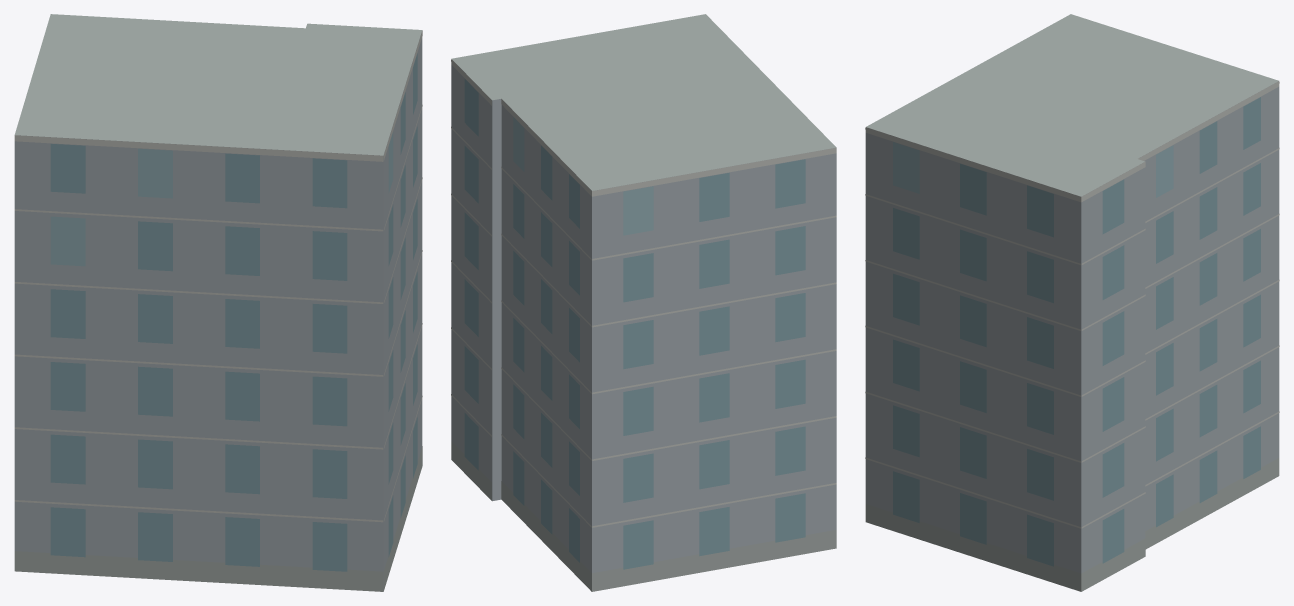
File: survey-upis-32633192.glb
The picture shows the model from 3 angles, left to right: view 1: azimuth 30°, elevation 25°; view 2: azimuth 150°, elevation 25°; view 3: azimuth 270°, elevation 25°; orthographic projection. The views are drawn at different scales.
Parts seen in each view (by area): view 1: survey-upis-32633192.tmp; view 2: survey-upis-32633192.tmp; view 3: survey-upis-32633192.tmp.
Part boxes in pixels (left/top/right/bottom): survey-upis-32633192.tmp: left=14, top=14, right=422, bottom=591; survey-upis-32633192.tmp: left=451, top=14, right=836, bottom=591; survey-upis-32633192.tmp: left=865, top=14, right=1279, bottom=591.
Bounding box in the file's own units: 16.89 × 17 × 16.15.
